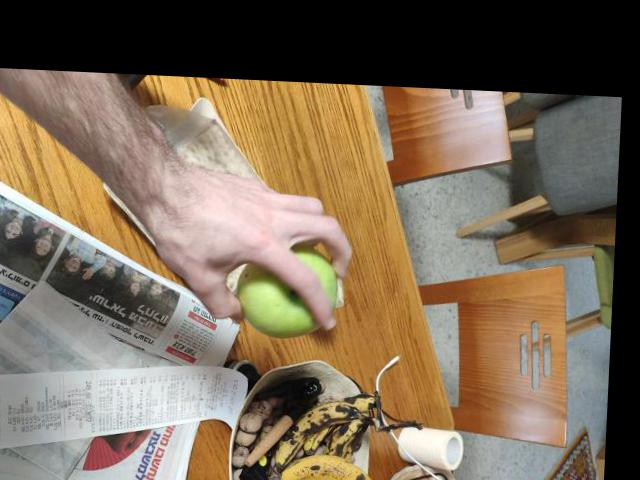apple: (231, 241, 345, 338)
